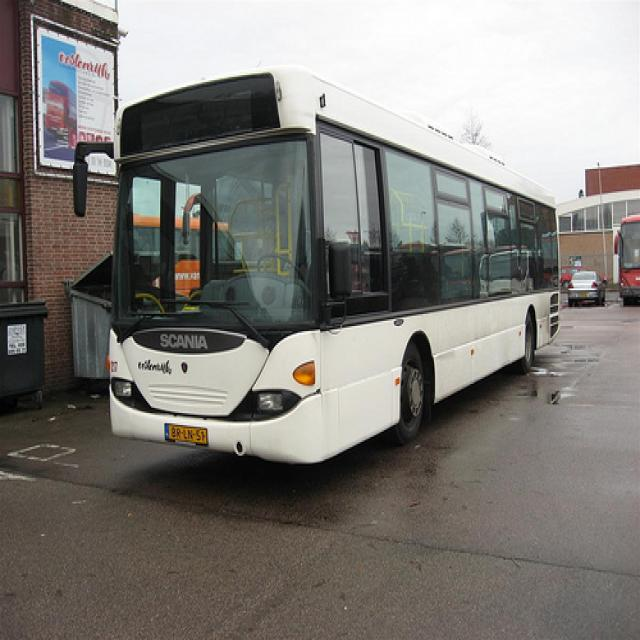bus: (71, 65, 563, 468)
